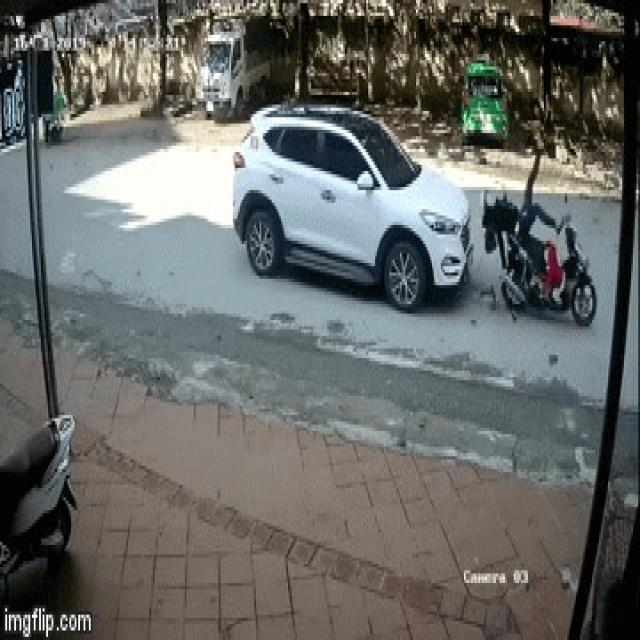multiple_accident: (222, 90, 601, 337)
